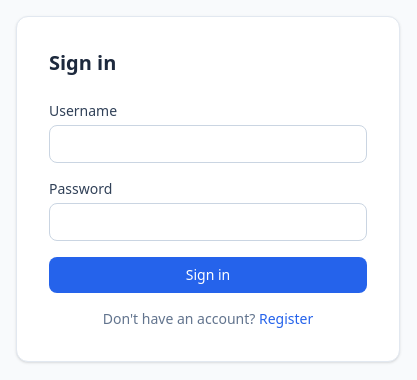
Test: LoginPage › toggles to register mode
Click the button "Register": (286, 319) [259,309,313,329]
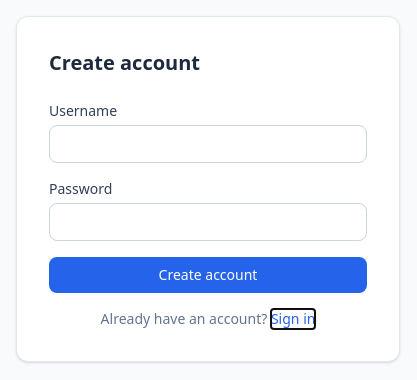
Expected: the heading "Create account" is shown, [49,49,200,76]
